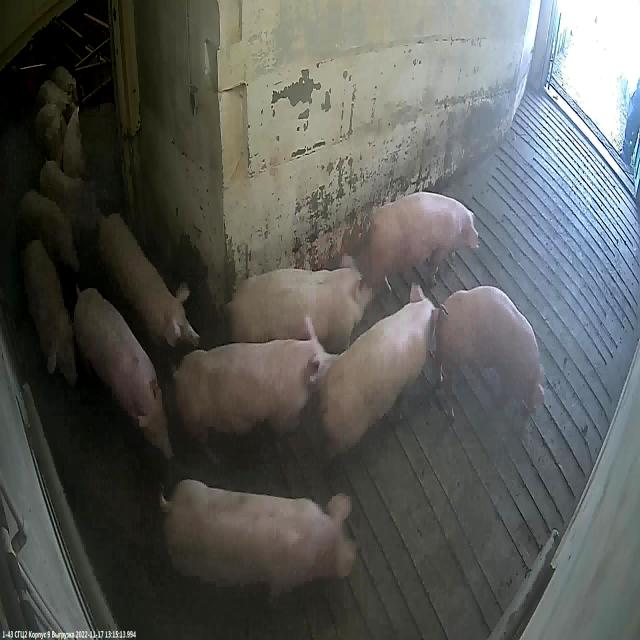pig: (158, 479, 359, 602), (313, 296, 438, 478), (174, 333, 336, 455), (72, 288, 174, 463), (96, 213, 202, 372), (361, 193, 480, 324), (225, 258, 371, 359), (442, 286, 544, 413), (20, 240, 78, 389), (20, 191, 79, 278)
